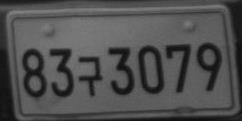0: (137, 44, 165, 94)
3: (48, 47, 74, 98), (108, 46, 135, 95)
7: (165, 43, 191, 93)
8: (21, 47, 48, 98)
9: (195, 41, 223, 91)
구: (77, 55, 103, 96)
